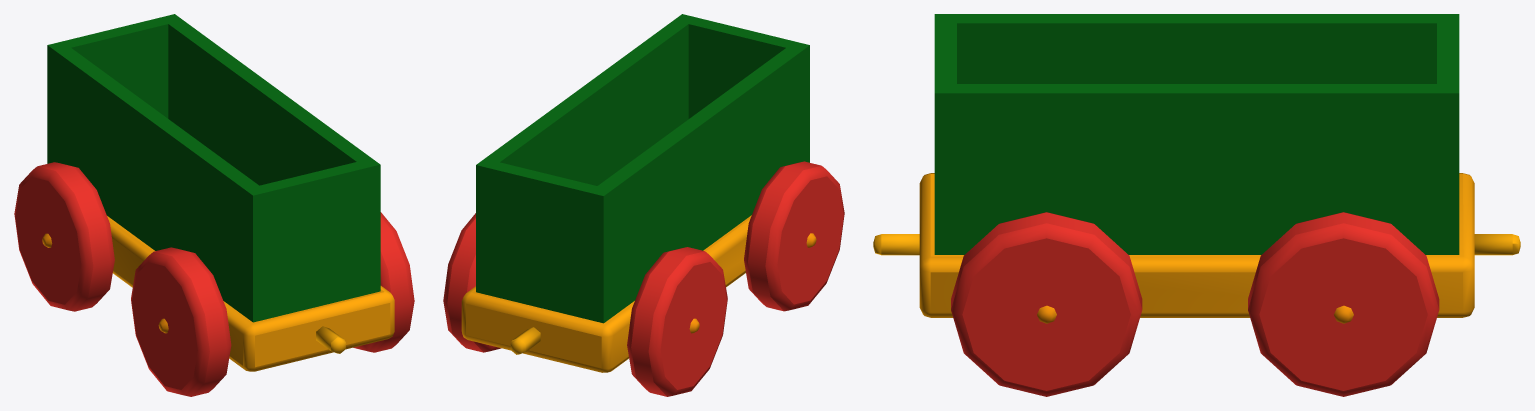
File: TrainCar2.fbx
3 views of the same model, side by side, from view 1: azimuth 30°, elevation 25°; view 2: azimuth 150°, elevation 25°; view 3: azimuth 270°, elevation 25° (orthographic). The views are drawn at different scales.
Parts seen in each view (by area): view 1: TrainCar2, Tire.009, Tire.008, Tire.010; view 2: TrainCar2, Tire.008, Tire.009, Tire.000; view 3: TrainCar2, Tire.000, Tire.010.
Part boxes in pixels (x1,y1,x2,y2): TrainCar2: (47, 14, 394, 371); Tire.009: (14, 162, 114, 311); Tire.008: (131, 247, 231, 396); Tire.010: (353, 212, 414, 352); TrainCar2: (461, 14, 809, 372); Tire.008: (744, 161, 844, 311); Tire.009: (627, 247, 727, 396); Tire.000: (443, 213, 500, 352); TrainCar2: (873, 14, 1520, 317); Tire.000: (1248, 212, 1439, 396); Tire.010: (951, 212, 1142, 396).
Bounding box in the file's own units: 14.85 × 13.99 × 29.22.
